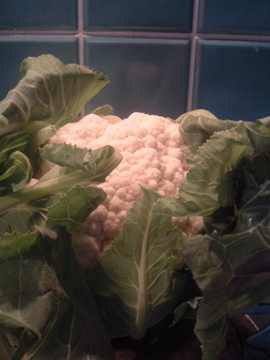cauliflower: (40, 111, 209, 340)
